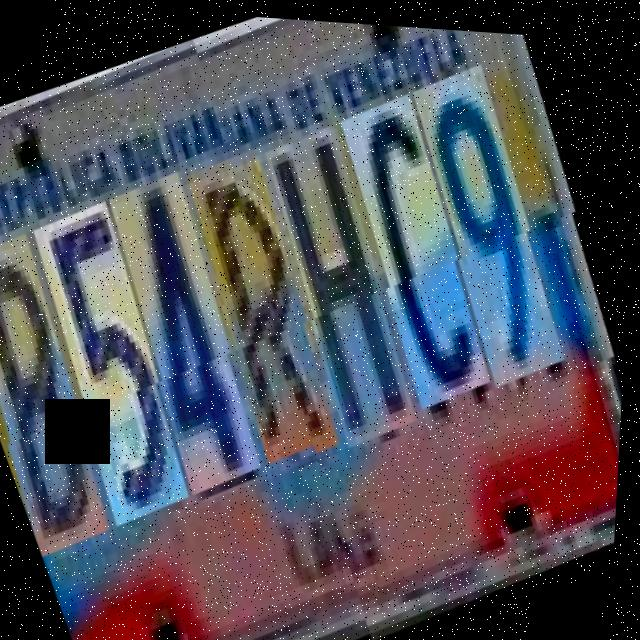4: (90, 173, 304, 502)
5: (14, 203, 232, 533)
9: (391, 58, 605, 386)
B: (0, 238, 152, 564)
C: (319, 87, 530, 408)
H: (244, 119, 458, 447)
R: (168, 150, 379, 471)
